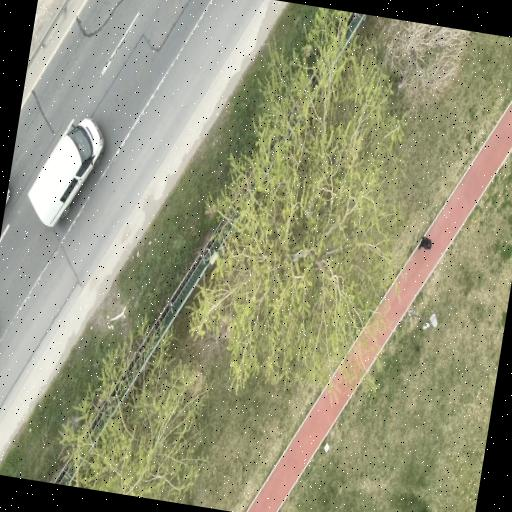car: (28, 119, 104, 226)
person: (419, 237, 432, 249)
